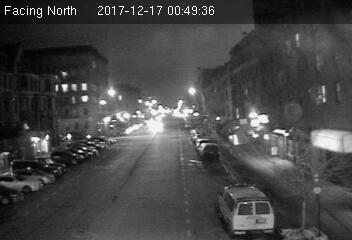car: (198, 142, 221, 160)
police: (214, 180, 276, 237)
